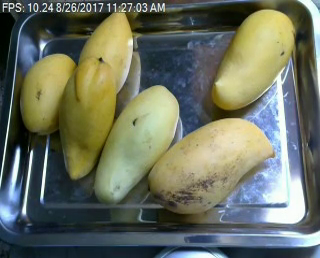Mango: (149, 119, 272, 213), (96, 84, 178, 203), (211, 7, 296, 109), (59, 58, 114, 179), (74, 3, 134, 94), (17, 54, 77, 131)
